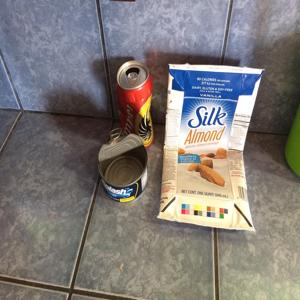cardboard: (156, 53, 264, 239)
metal: (114, 58, 158, 147), (101, 134, 150, 205)
